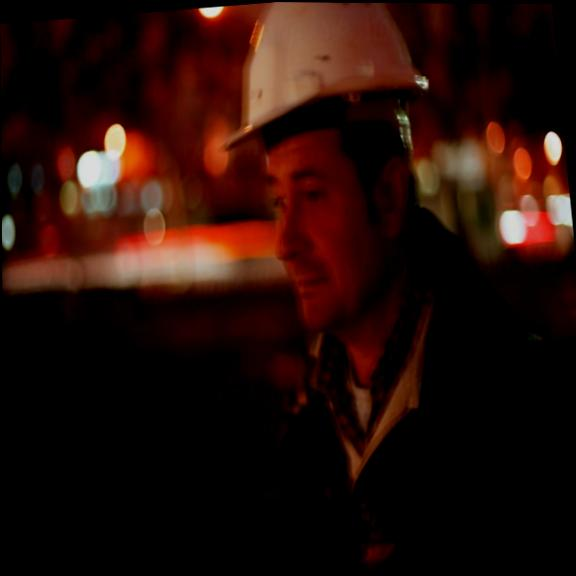no_safety_vest: (256, 285, 576, 576)
